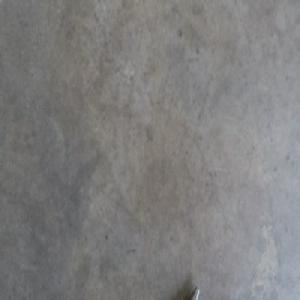Pliers: (187, 287, 202, 299)
